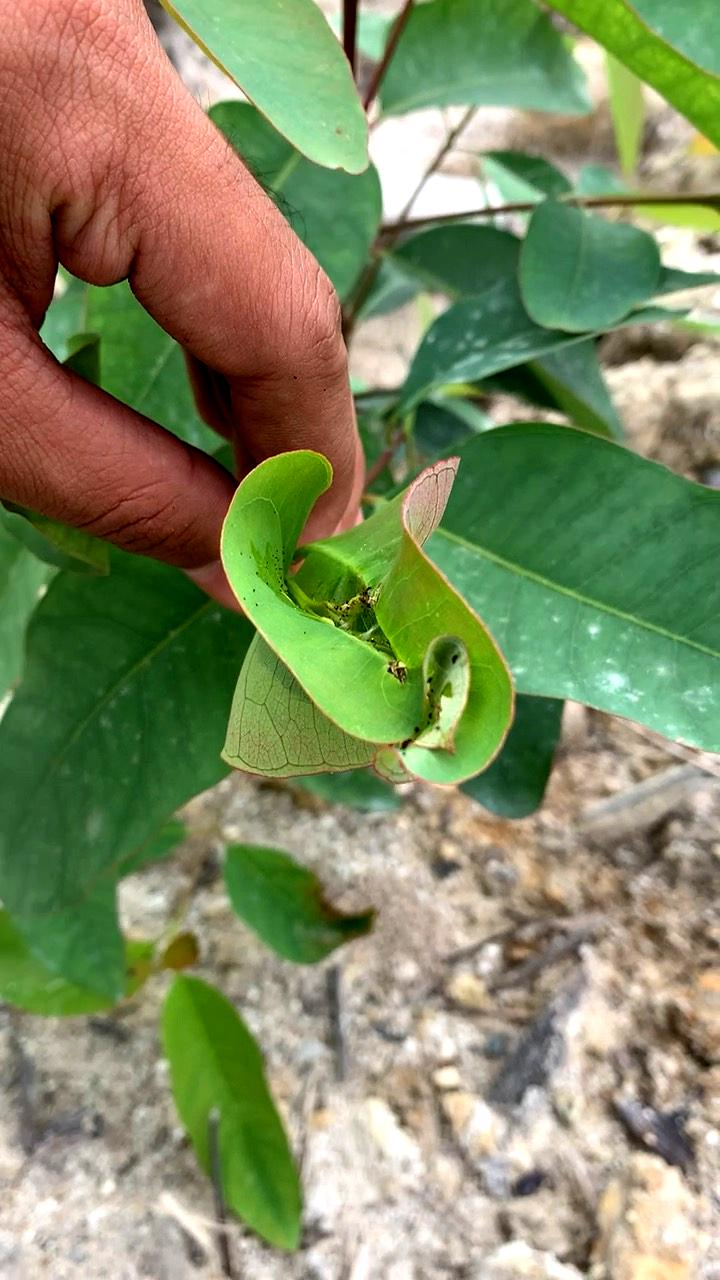Leaf Roller - Leaf: (189, 430, 530, 848)
